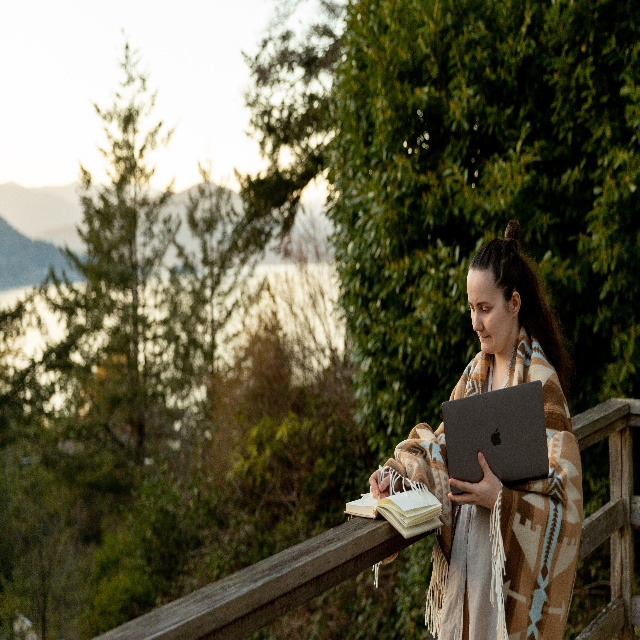Sin_guantes: (446, 450, 502, 510), (368, 466, 402, 502)
